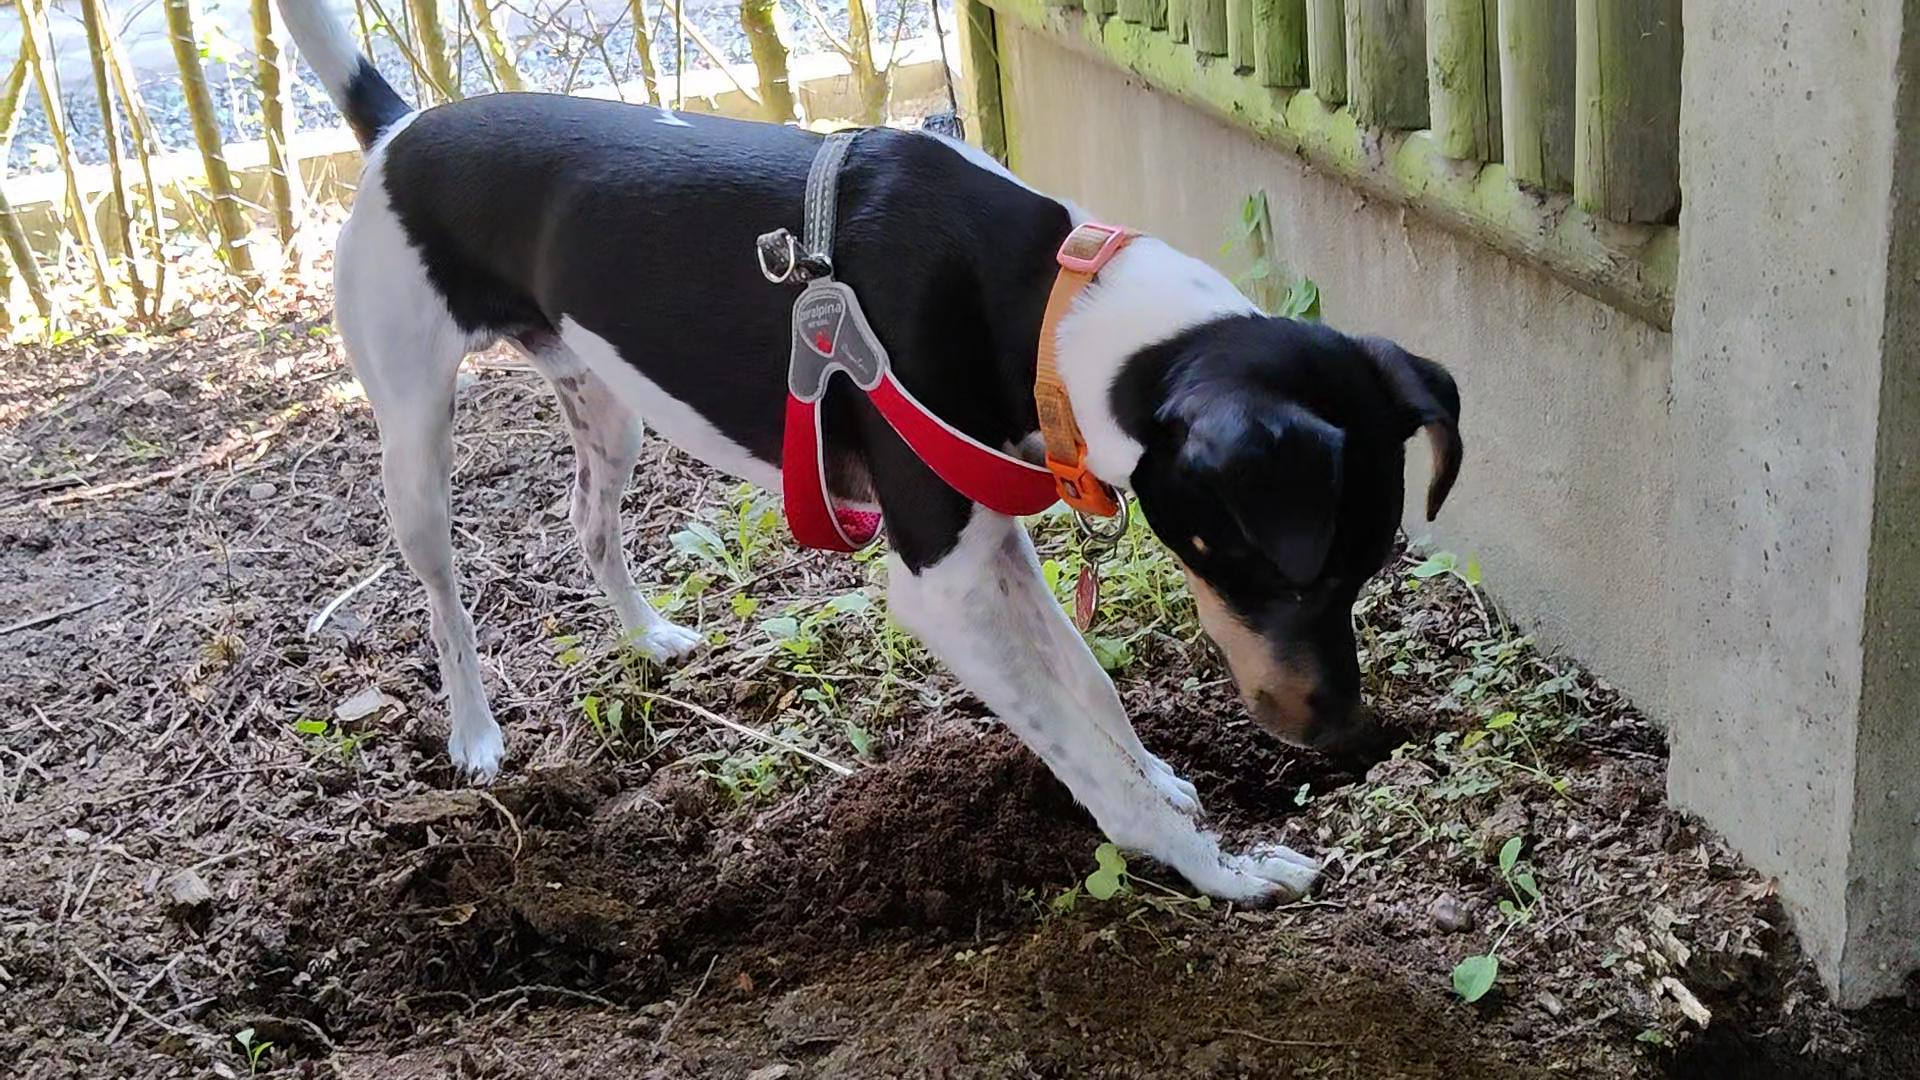Dog: (265, 0, 1474, 924)
